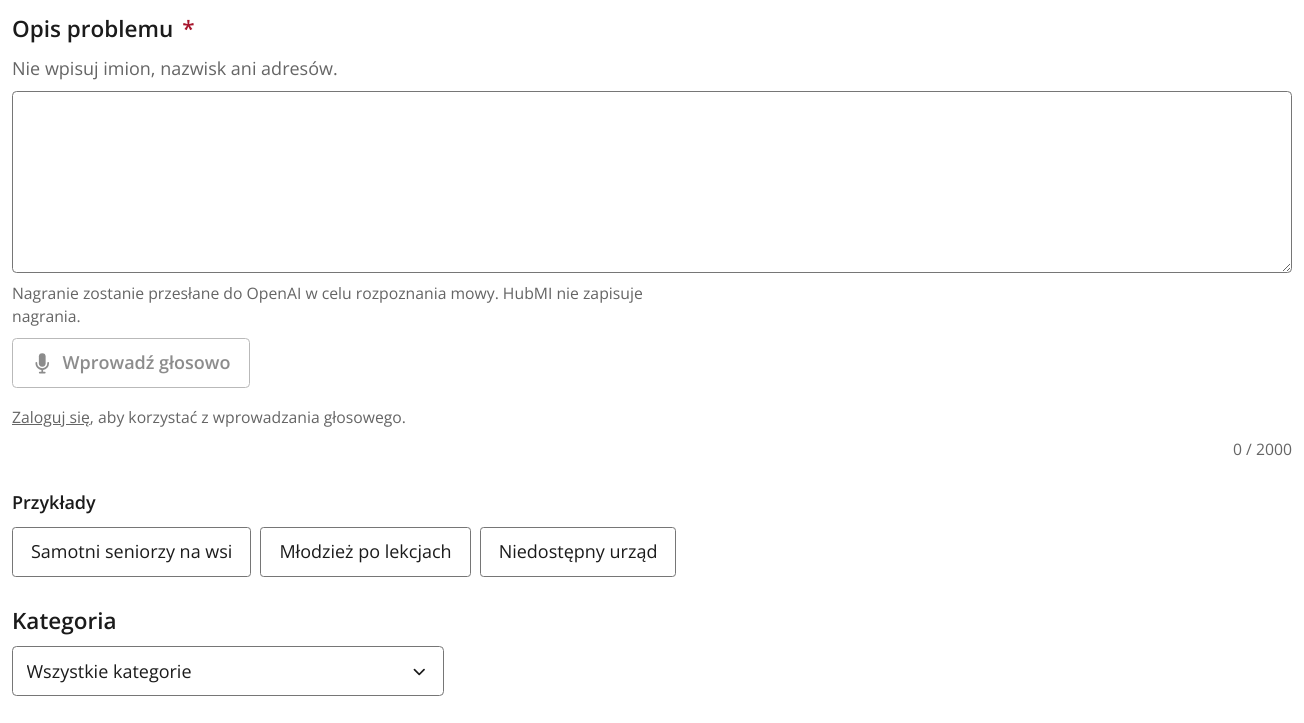
Test case: MatchExperience › hides previous results when the problem becomes too short
Type "Młodzież po lekcjach nie ma gdzie spędzać czasu" into the text box labelled "Opis problemu".
click(652, 182); type("Młodzież po lekcjach nie ma gdzie spędzać czasu")  # box [12,91,1292,273]
(page scrolled)
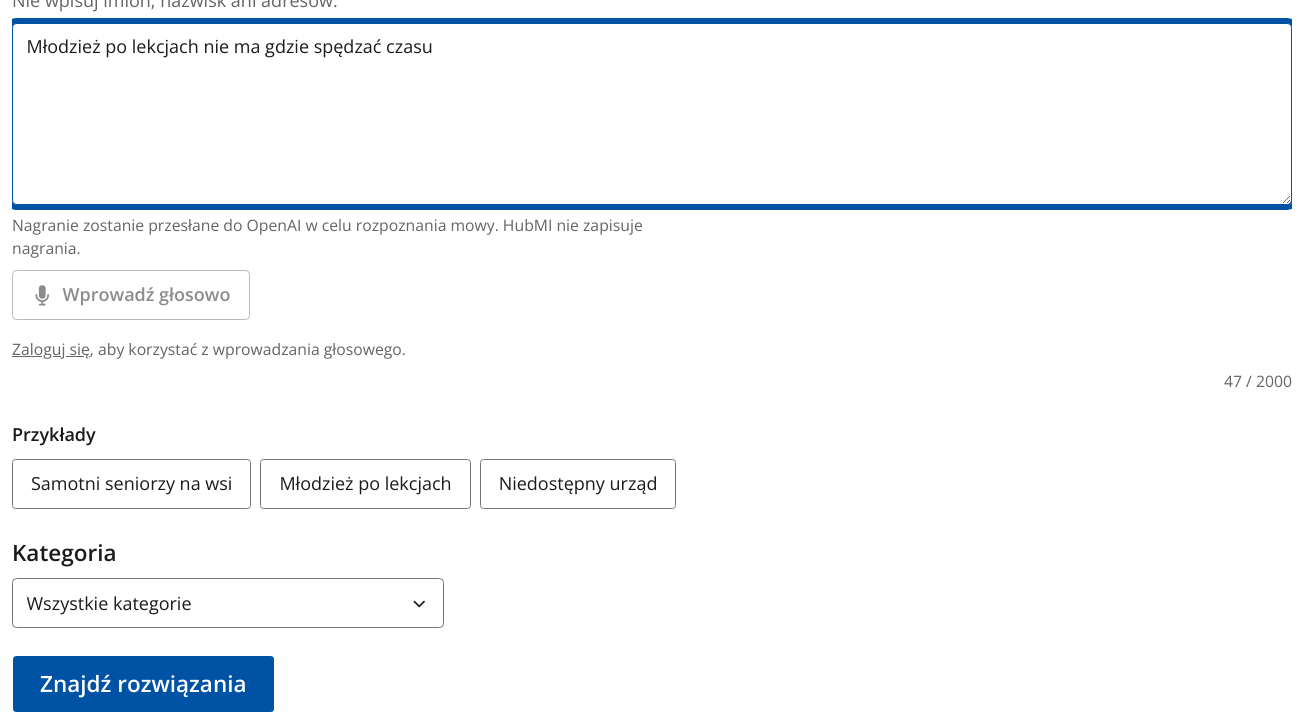
Click the button "Znajdź rozwiązania".
click(143, 684)  # box [12,655,274,713]
(page scrolled)
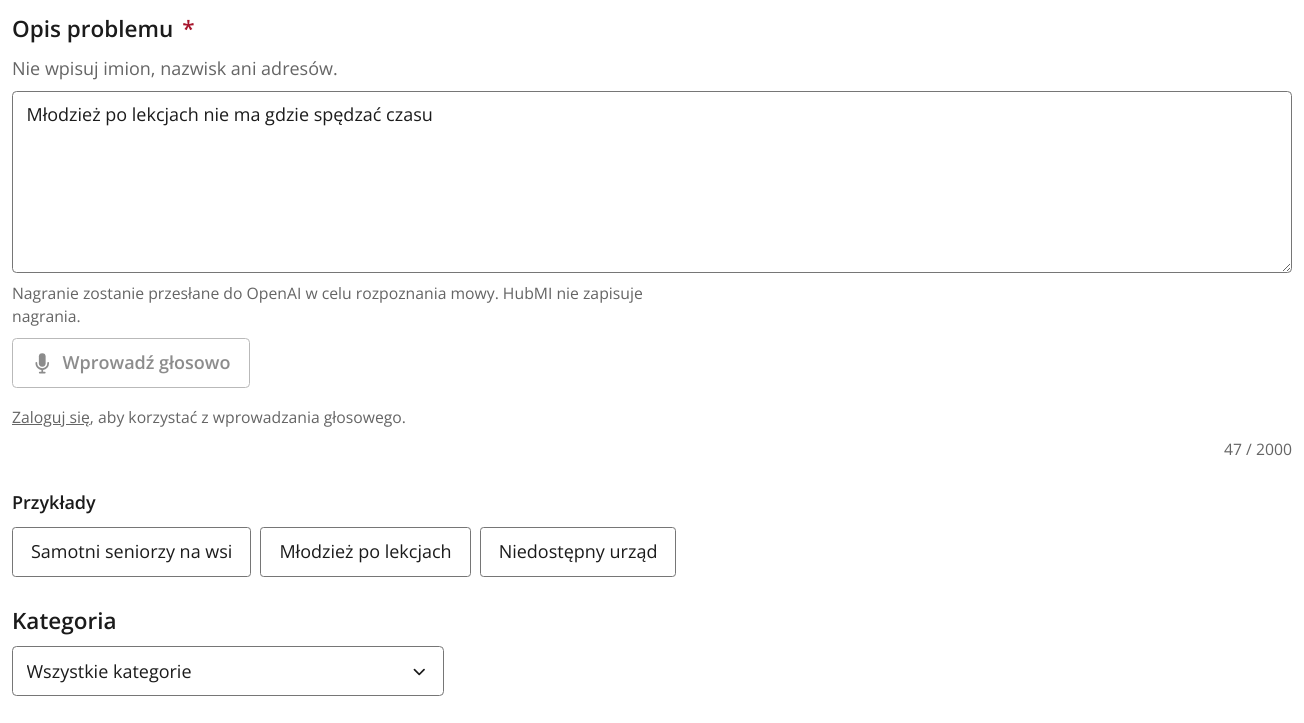
Clear the text box labelled "Opis problemu" at [652, 182], box [12,91,1292,273]
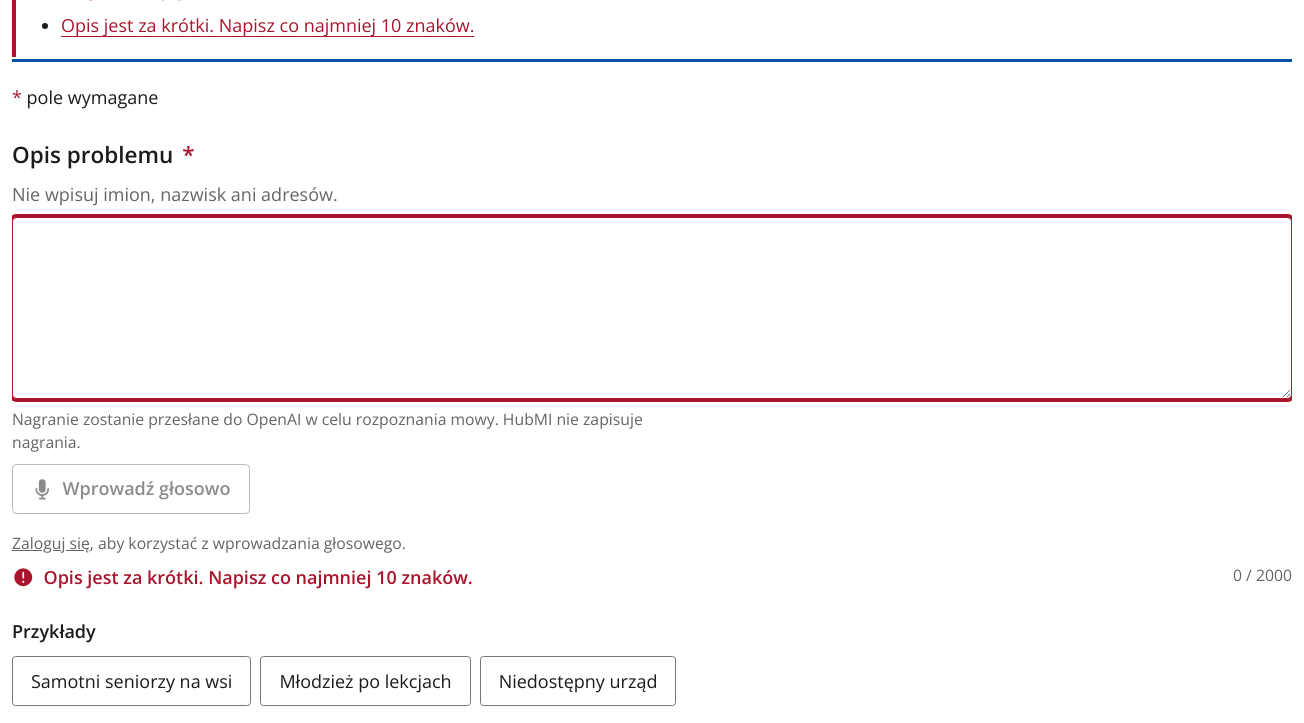
Type "za mało" into the text box labelled "Opis problemu".
click(652, 308); type("za mało")  # box [12,217,1292,399]
(page scrolled)
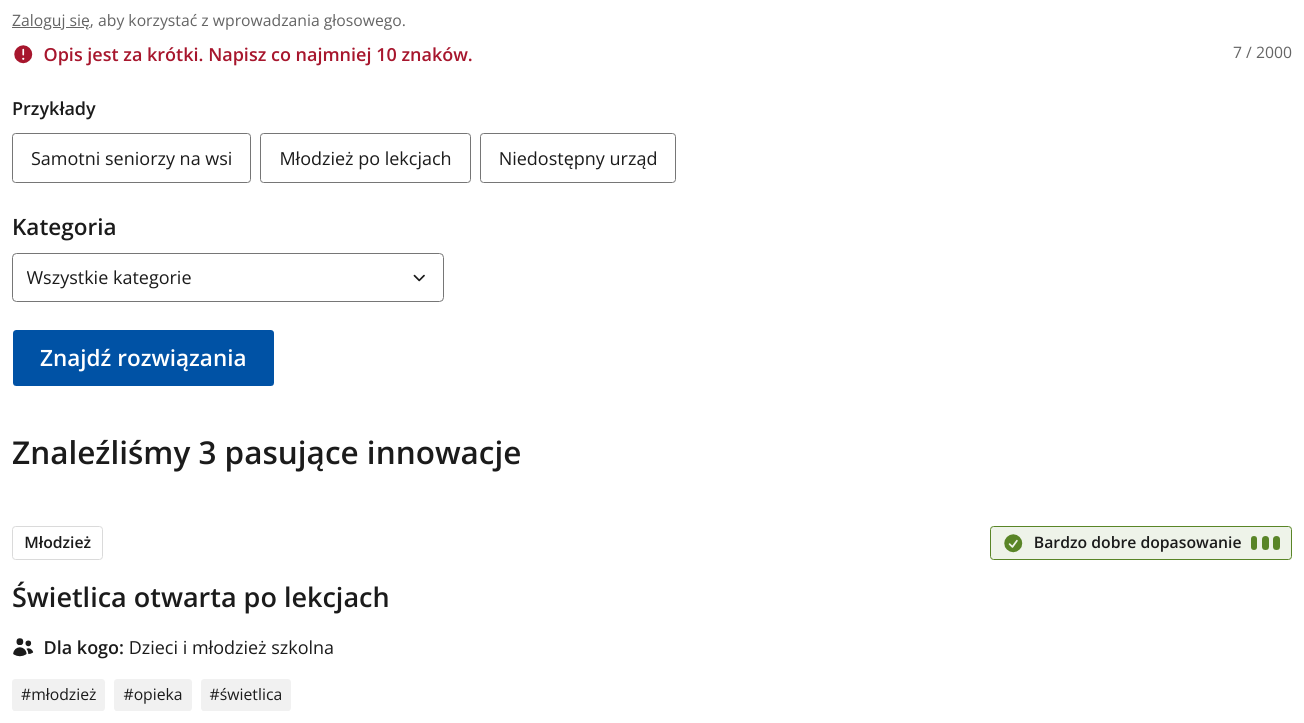
Click the button "Znajdź rozwiązania".
click(143, 358)  # box [12,329,274,387]
(page scrolled)
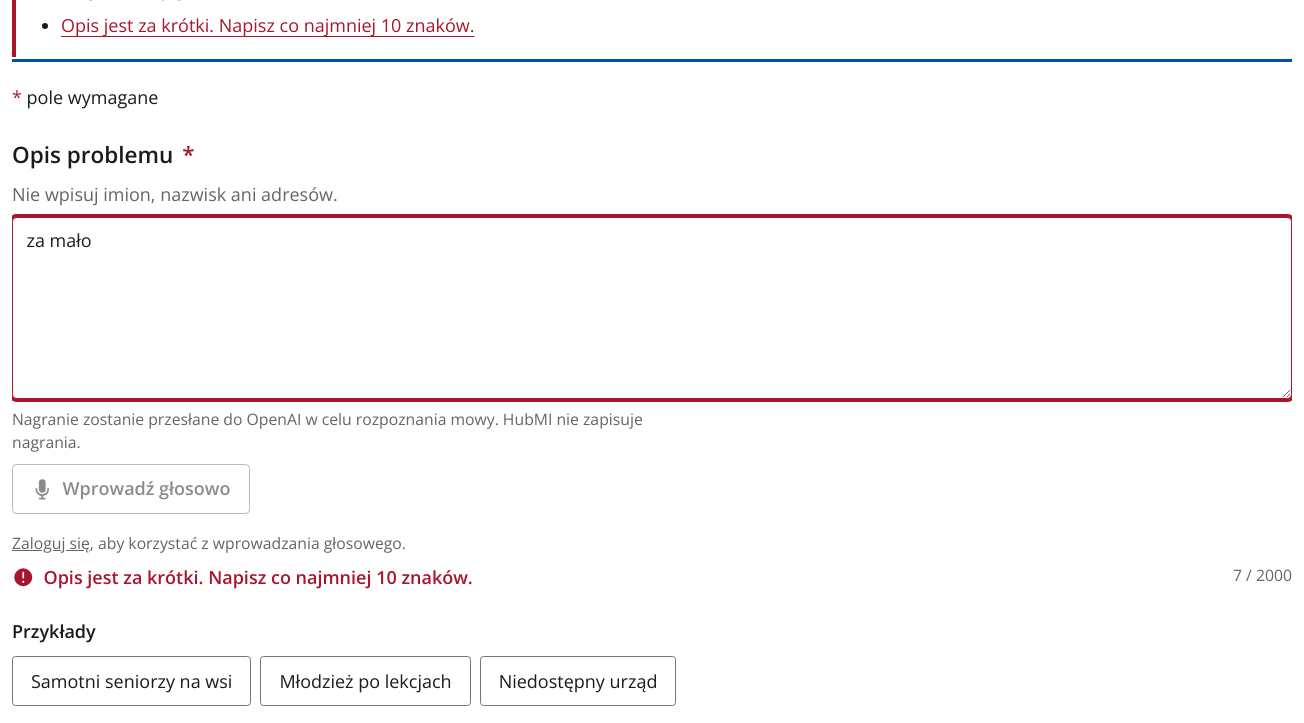
Expected: the link "Opis jest za krótki. Napisz co najmniej 10 znaków." is shown, [61,13,474,37]
Expected: the heading "Znaleźliśmy" is gone
